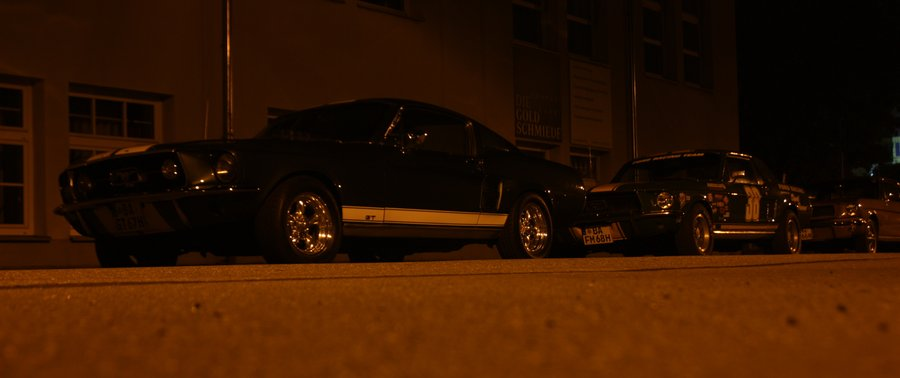car: (50, 90, 592, 274)
